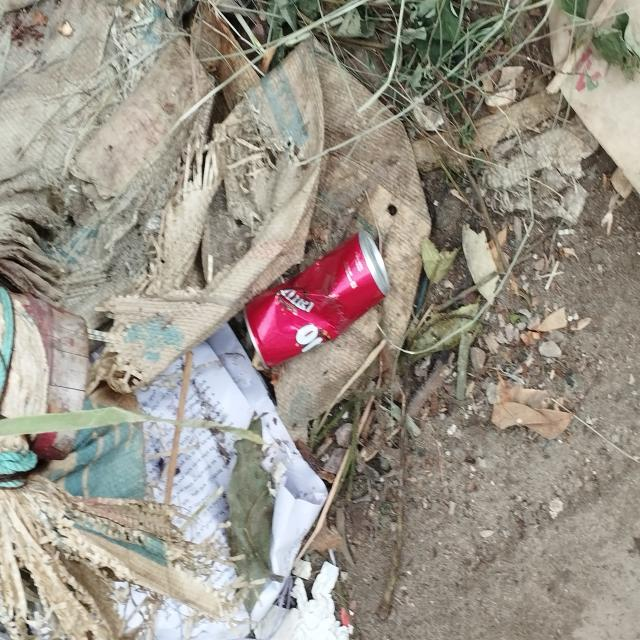aluminum: (243, 230, 400, 365)
